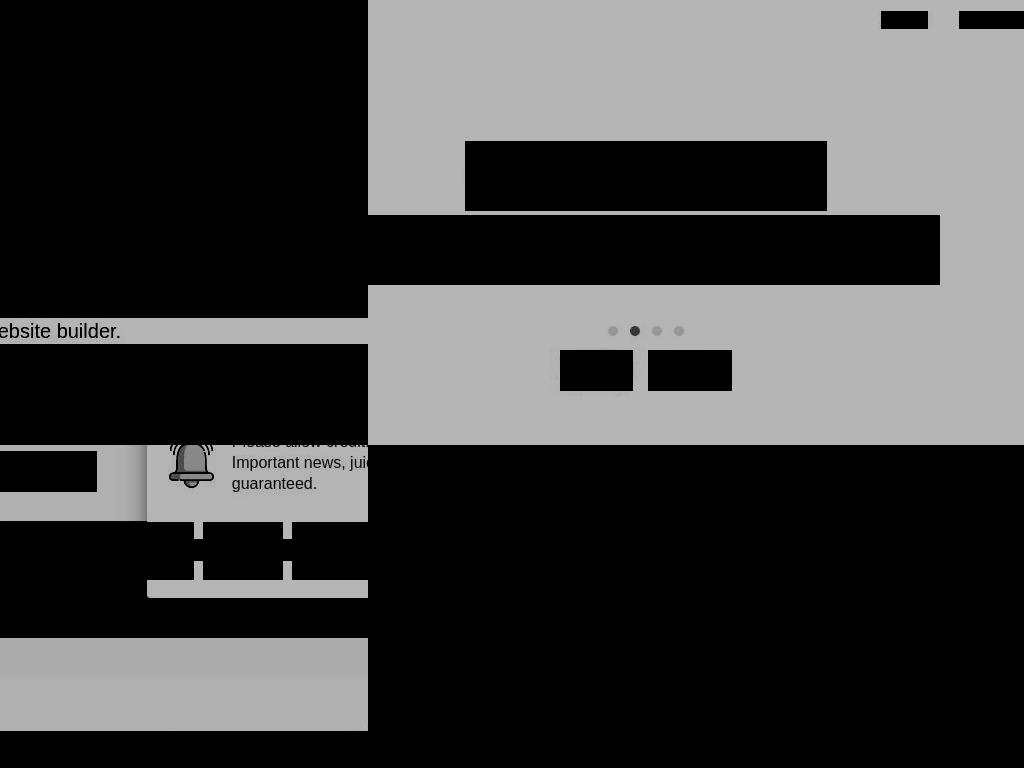button: (6, 522, 123, 580), (203, 522, 283, 580), (292, 522, 368, 580), (0, 451, 97, 492), (132, 522, 194, 580), (648, 350, 732, 391), (560, 350, 633, 391), (0, 580, 50, 638), (959, 11, 1024, 29), (881, 11, 928, 29)
heading: (0, 0, 368, 445), (0, 0, 368, 445), (368, 638, 717, 768), (0, 128, 368, 208), (0, 208, 368, 288)
image: (0, 539, 368, 561), (167, 445, 216, 488)
text: (368, 215, 940, 285), (465, 141, 827, 211), (0, 731, 368, 761), (0, 318, 368, 344), (0, 746, 368, 768), (6, 522, 123, 580), (231, 445, 368, 494), (203, 522, 283, 580), (292, 522, 368, 580), (0, 731, 255, 746), (132, 522, 194, 580), (0, 580, 50, 638), (254, 731, 368, 746), (959, 11, 1024, 29), (660, 361, 720, 380), (572, 361, 621, 380), (306, 746, 368, 761), (881, 11, 928, 29)
